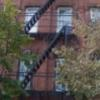stairs: (23, 0, 55, 35)
